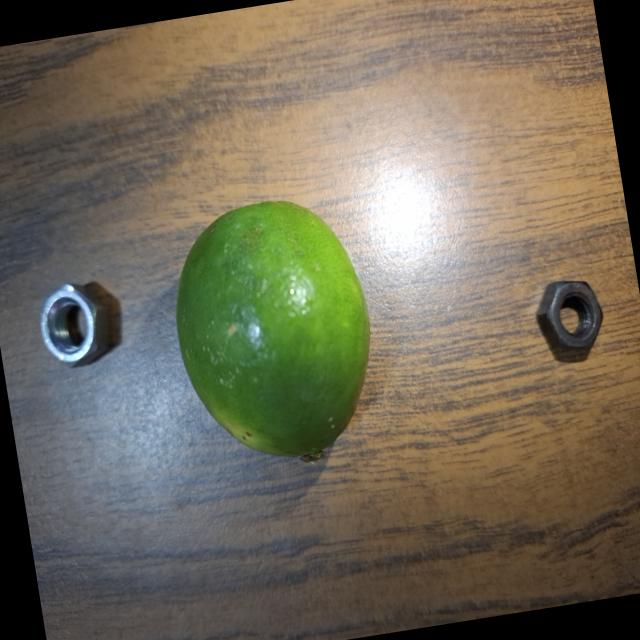limon: (156, 187, 396, 486)
milimetrico: (524, 274, 613, 362)
tuerca: (29, 271, 121, 377)
